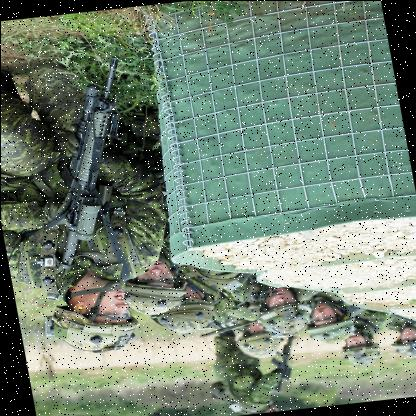rifle: (4, 51, 163, 264)
